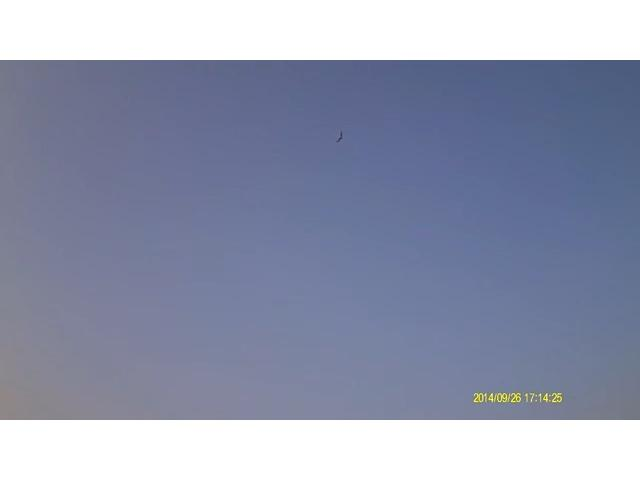Anti-Drone: (330, 126, 352, 146)
